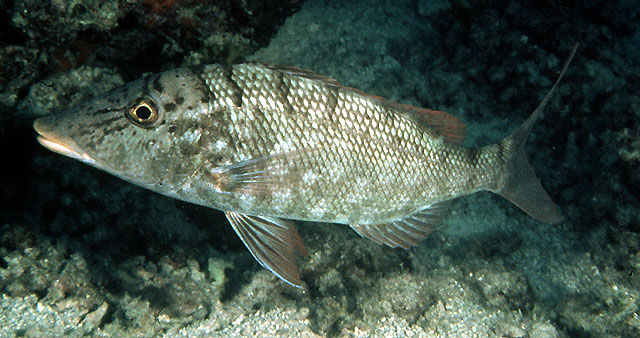fish: (33, 61, 567, 289)
